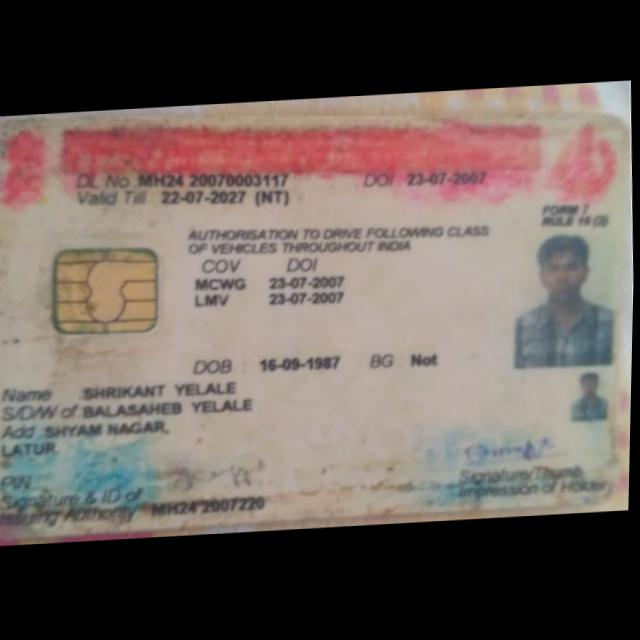driving_licence: (0, 83, 638, 546)
